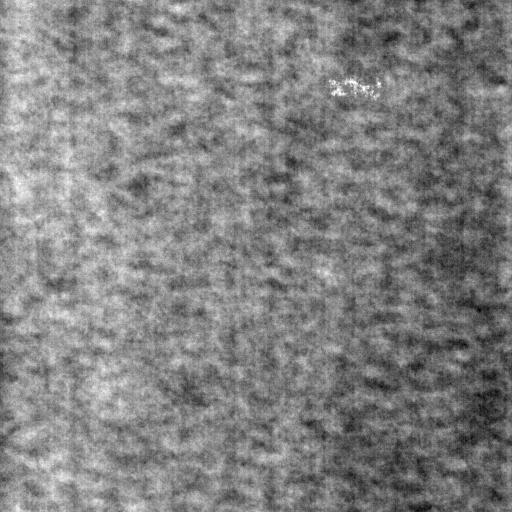stain: (321, 73, 388, 104)
